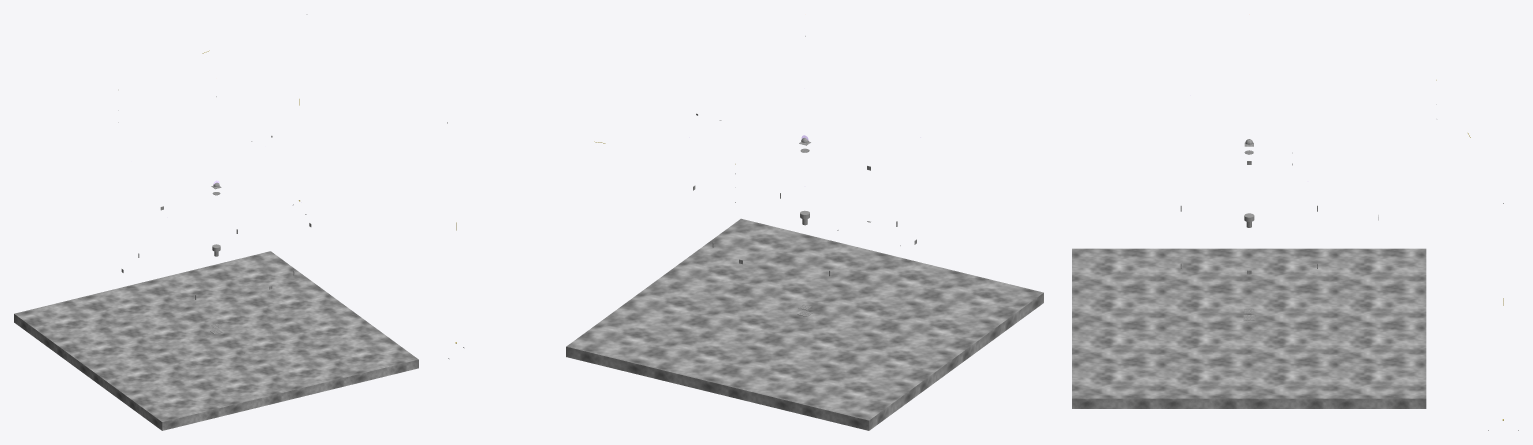
File: operations-center.glb
The picture shows the model from 3 angles, left to right: view 1: azimuth 30°, elevation 25°; view 2: azimuth 150°, elevation 25°; view 3: azimuth 270°, elevation 25°; orthographic projection. The views are drawn at different scales.
Parts seen in each view (by area): view 1: OC_Pad; view 2: OC_Pad; view 3: OC_Pad.
Boxes of the visible parts, x1,y1,x2,y2 form: OC_Pad: [14, 251, 418, 430]; OC_Pad: [566, 218, 1043, 430]; OC_Pad: [1072, 248, 1426, 408].
Bounding box in the file's own units: 12.37 × 9.73 × 12.31.
10 materials, 10 textured.
